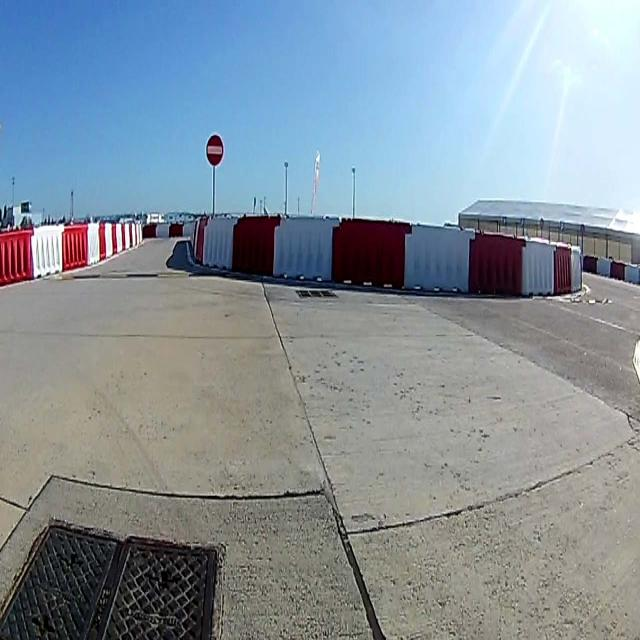girisyok: (206, 134, 223, 166)
